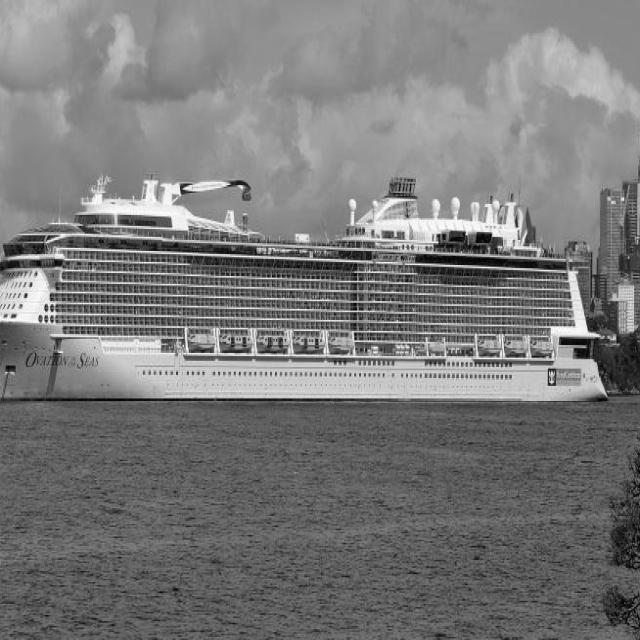cruises: (1, 167, 626, 407)
